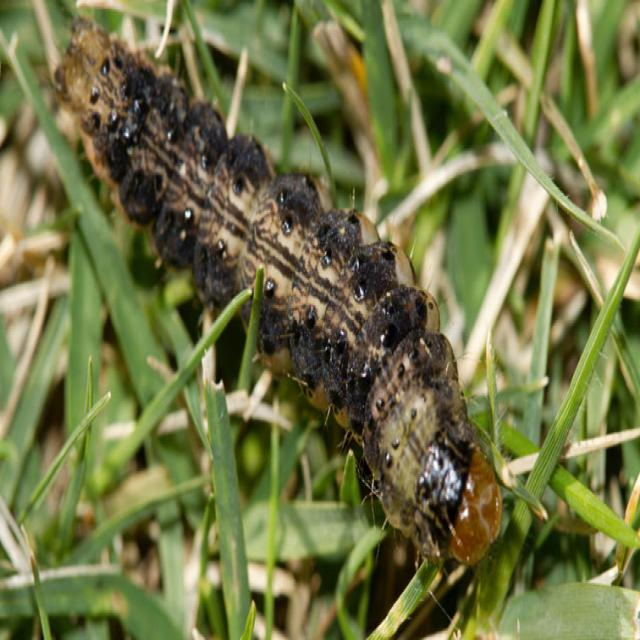Corn-earworm: (53, 9, 510, 575)
